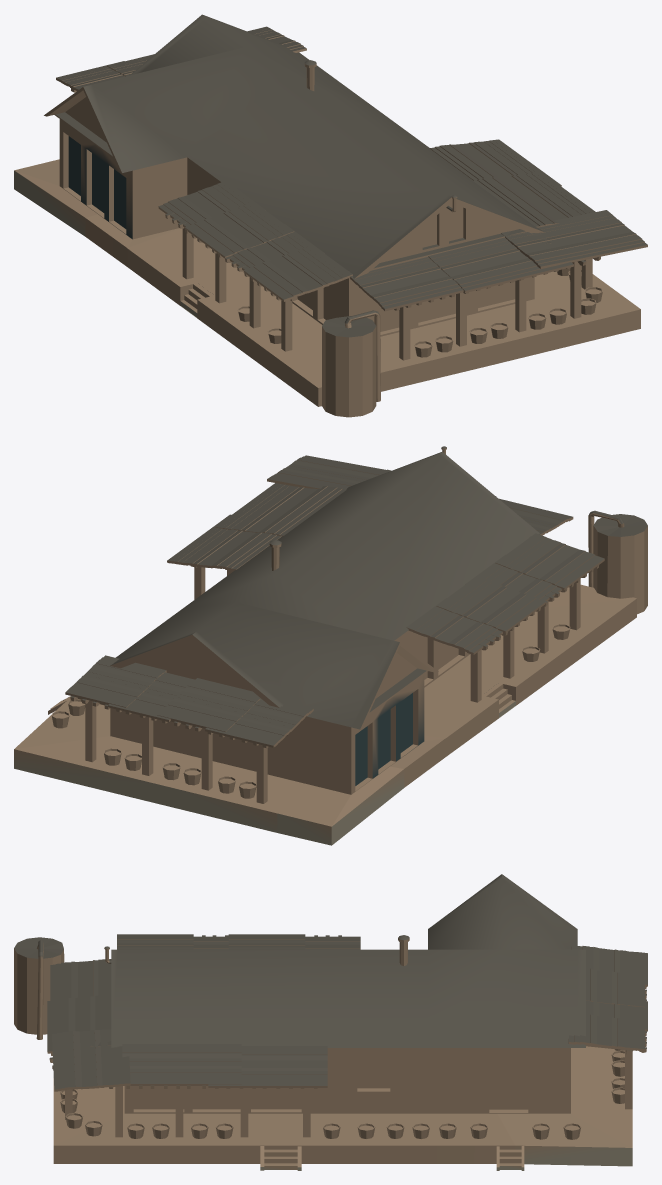
3 renders of one model, top to bottom at view 1: azimuth 30°, elevation 25°; view 2: azimuth 150°, elevation 25°; view 3: azimuth 270°, elevation 25°, orthographic. The views are drawn at different scales.
Parts seen in each view (by area): view 1: pCube81:PIV, pCube117:PIV; view 2: pCube81:PIV, pCube117:PIV; view 3: pCube81:PIV, pCube117:PIV.
Part boxes in pixels (left/top/right/bottom): pCube81:PIV: left=14, top=14, right=640, bottom=417; pCube117:PIV: left=56, top=26, right=647, bottom=311; pCube81:PIV: left=14, top=446, right=647, bottom=845; pCube117:PIV: left=65, top=455, right=604, bottom=747; pCube81:PIV: left=14, top=874, right=646, bottom=1170; pCube117:PIV: left=47, top=934, right=647, bottom=1091.
Bounding box in the file's own units: 5.5 × 2.69 × 9.3.
